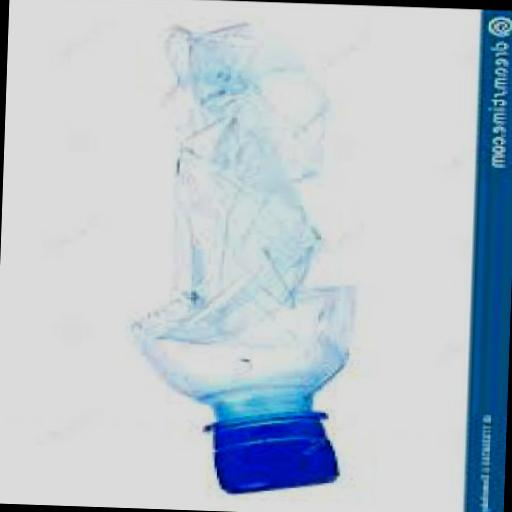plastic: (125, 14, 360, 494), (200, 403, 338, 494)
